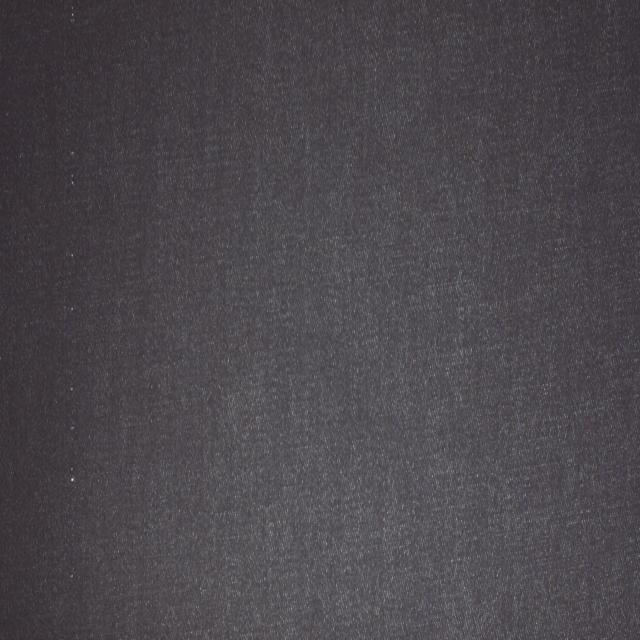defect: (64, 0, 85, 614)
